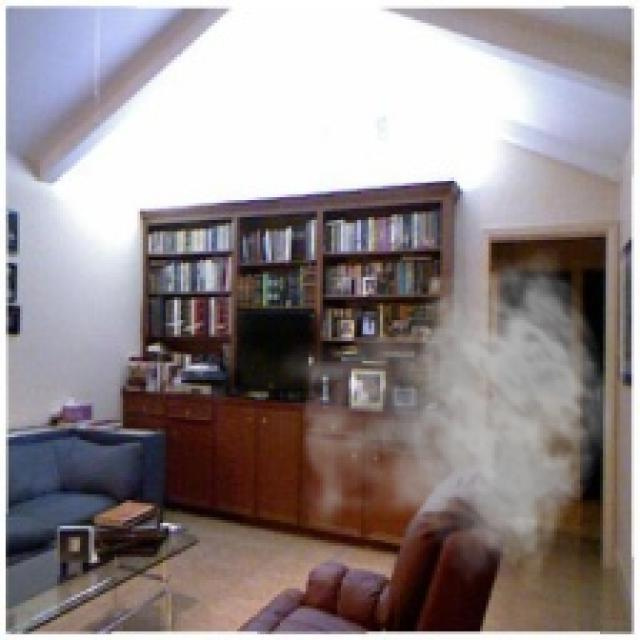Smoke: (272, 248, 614, 592)
